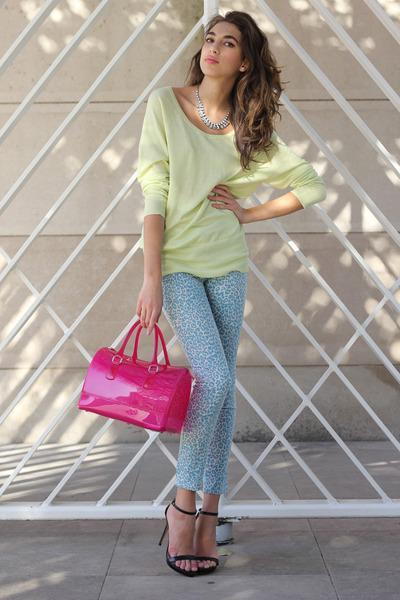bag: (77, 324, 193, 433)
pants: (163, 270, 245, 491)
shirt: (126, 77, 336, 277)
shoe: (166, 504, 227, 576)
